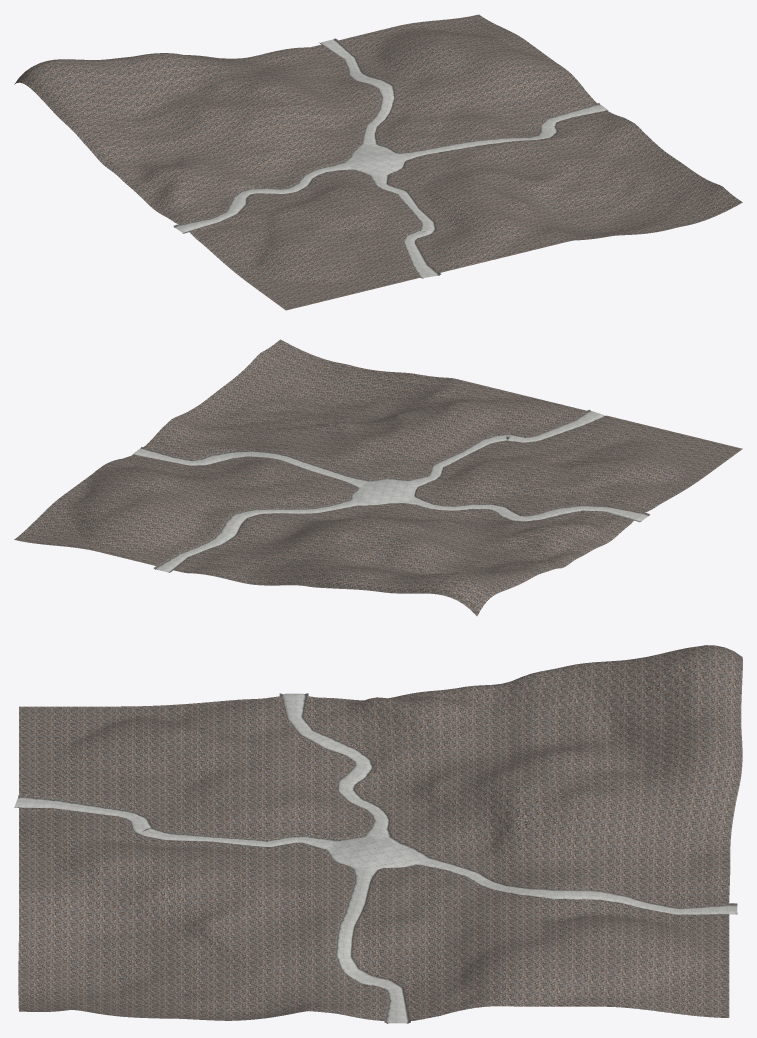
Rendered from ForestGeneric.glb.
3 views of the same model, one above another, from view 1: azimuth 30°, elevation 25°; view 2: azimuth 150°, elevation 25°; view 3: azimuth 270°, elevation 25° (orthographic). The views are drawn at different scales.
Parts seen in each view (by area): view 1: Path.003; view 2: Path.003; view 3: Path.003.
Part boxes in pixels (bbox=[...]): Path.003: bbox=[14, 14, 742, 310]; Path.003: bbox=[14, 339, 742, 616]; Path.003: bbox=[14, 645, 742, 1023].
Bounding box in the file's own units: 81.31 × 12.29 × 82.09.
3 materials, 3 textured.
